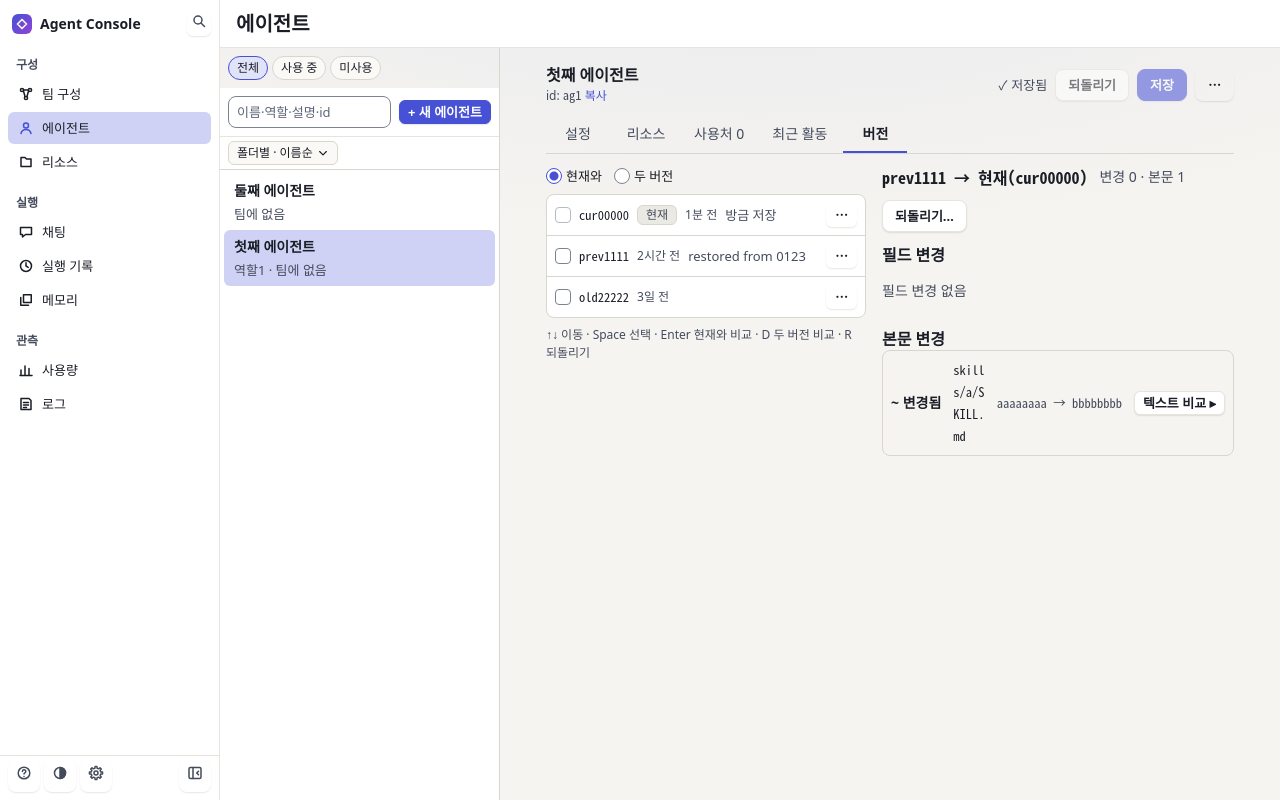
Test case: 버전 탭: 본문 변경 › 텍스트가 아닌 파일은 행 안에 안내하고 읽기 실패는 [다시 시도]를 보인다
Expected: the list named "버전 목록" is shown, [546,194,866,318]
Click the button "텍스트 비교 ▸" at (1179, 403), box [1134,391,1225,415]
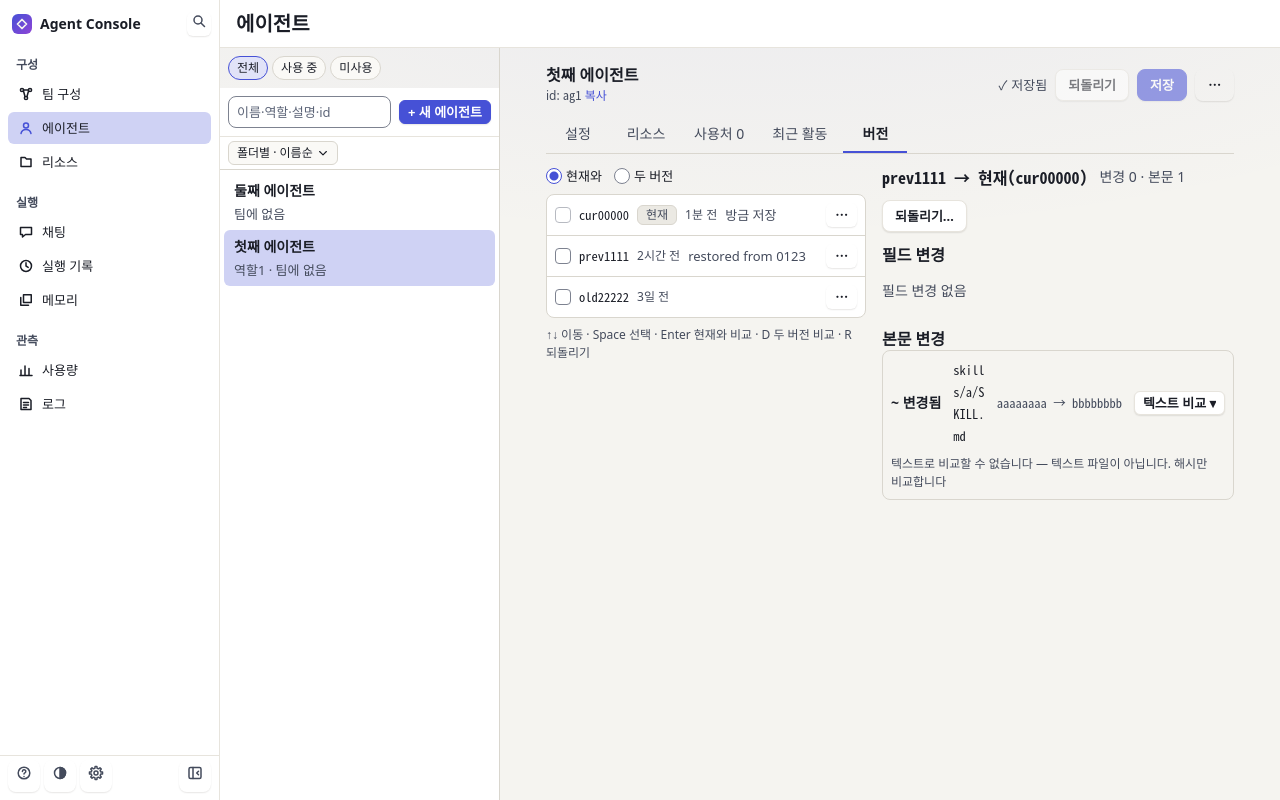
Expected: the text "텍스트로 비교할 수 없습니다 — 텍스트 파일이 아닙니다. 해시만 비교합니다" is shown, [891,455,1225,491]
